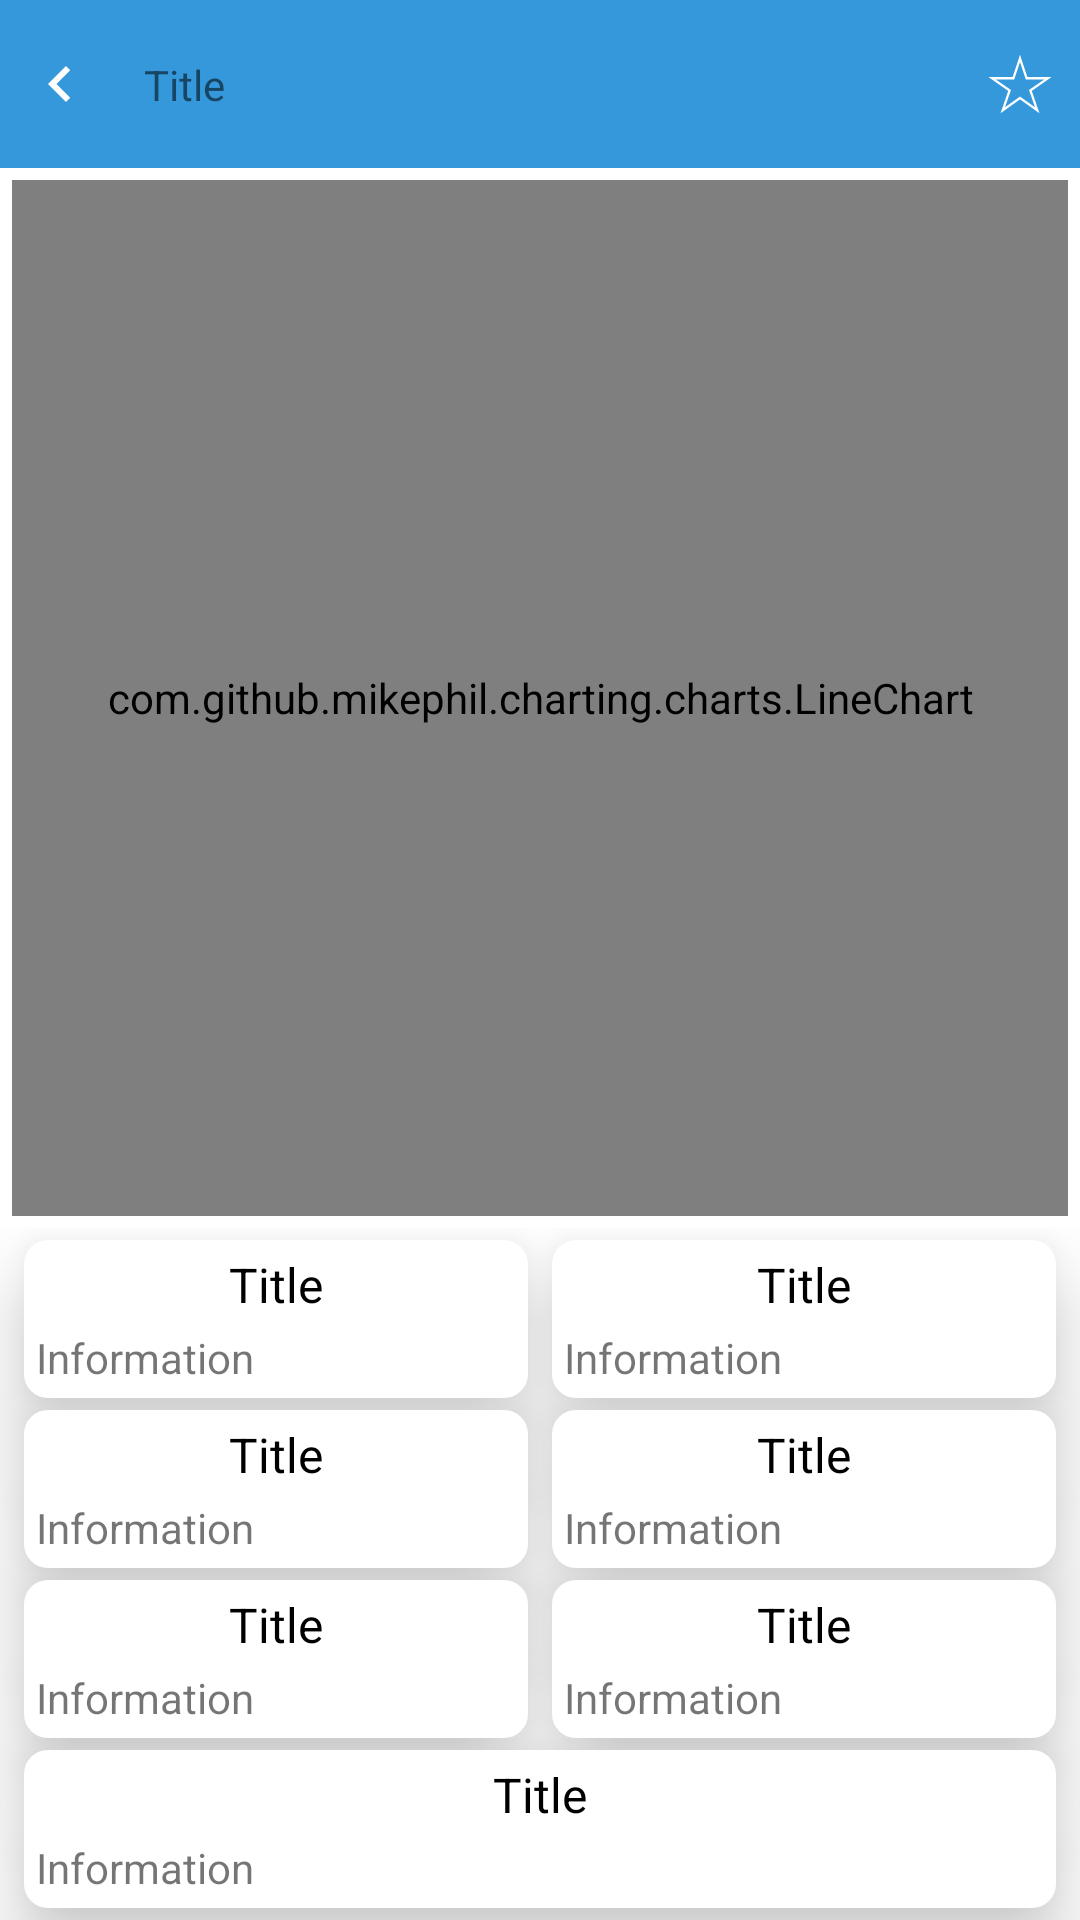

Screen size 1080 x 1920. Icon name, then its box in pixels as (x1, y1, x2, y2):
navigate before: (48, 66, 70, 102)
star non: (988, 55, 1052, 113)
